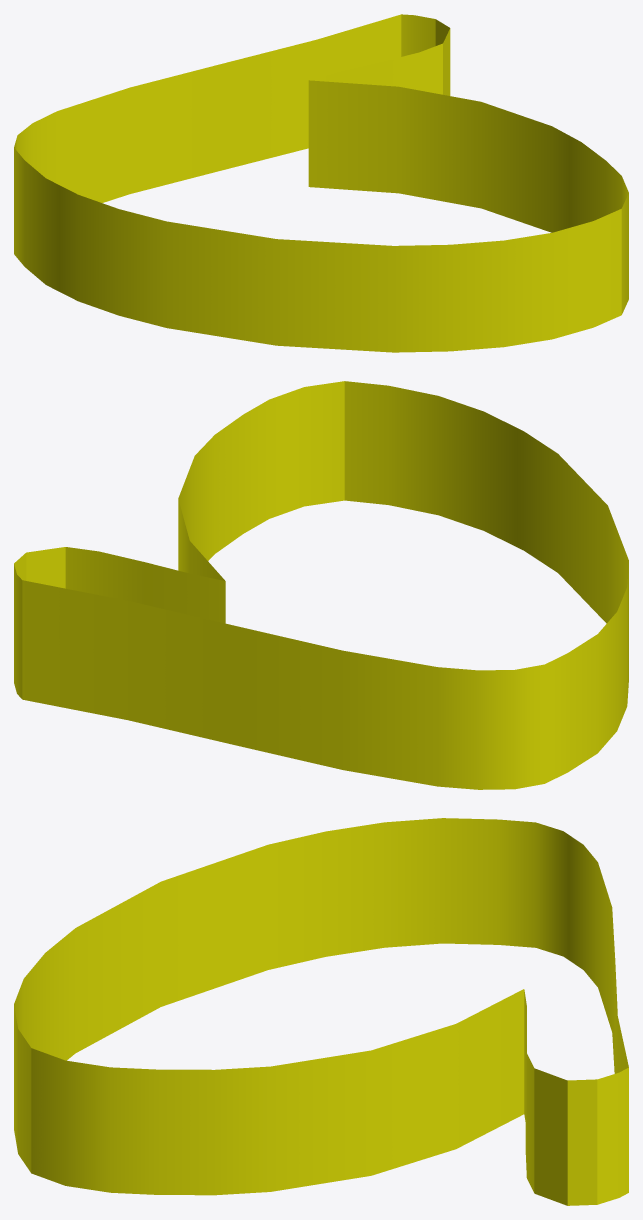
Rendered from original-139.obj.
3 renders of one model, top to bottom at view 1: azimuth 30°, elevation 25°; view 2: azimuth 150°, elevation 25°; view 3: azimuth 270°, elevation 25°, orthographic. The views are drawn at different scales.
Visible parts, largest first — view 1: #ID126; view 2: #ID126; view 3: #ID126.
Boxes of the visible parts, box(x1,y1,x2,y2) form: #ID126: box(14, 14, 628, 352); #ID126: box(14, 381, 628, 789); #ID126: box(14, 818, 628, 1205).
Size of the model in its own units: 0.0079 by 0.00176 by 0.00782.
